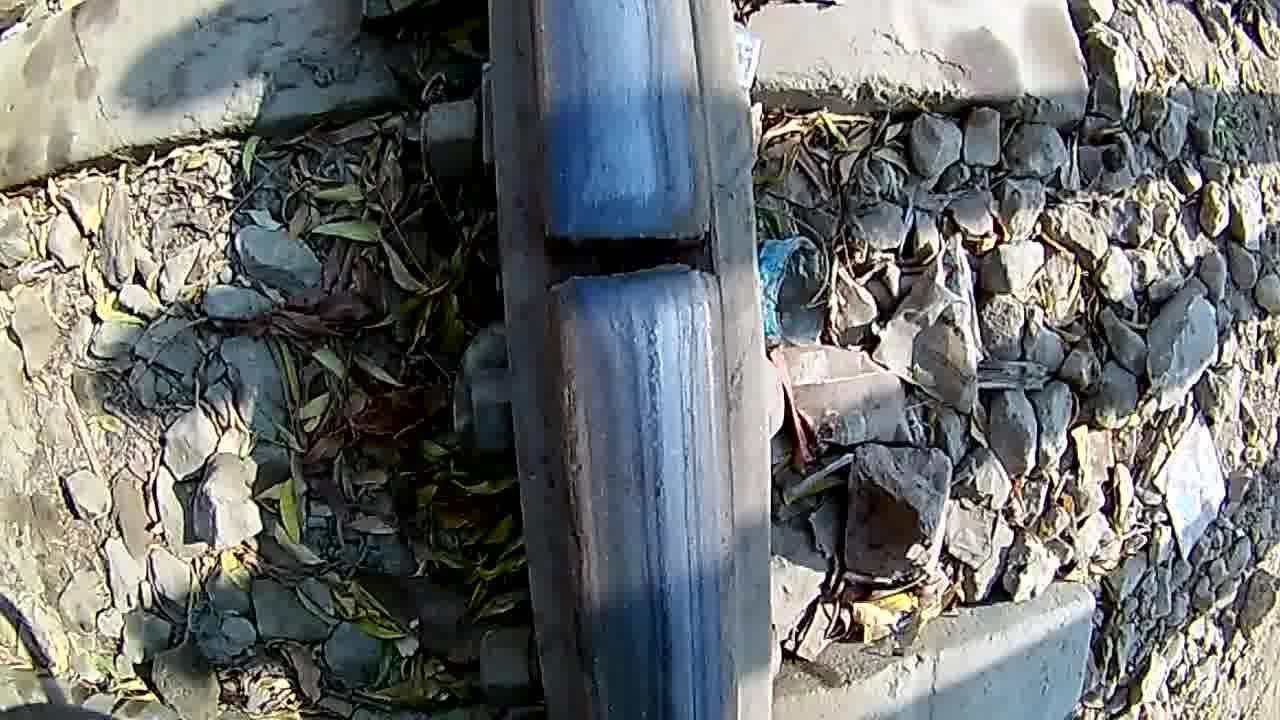crack: (517, 175, 731, 358)
